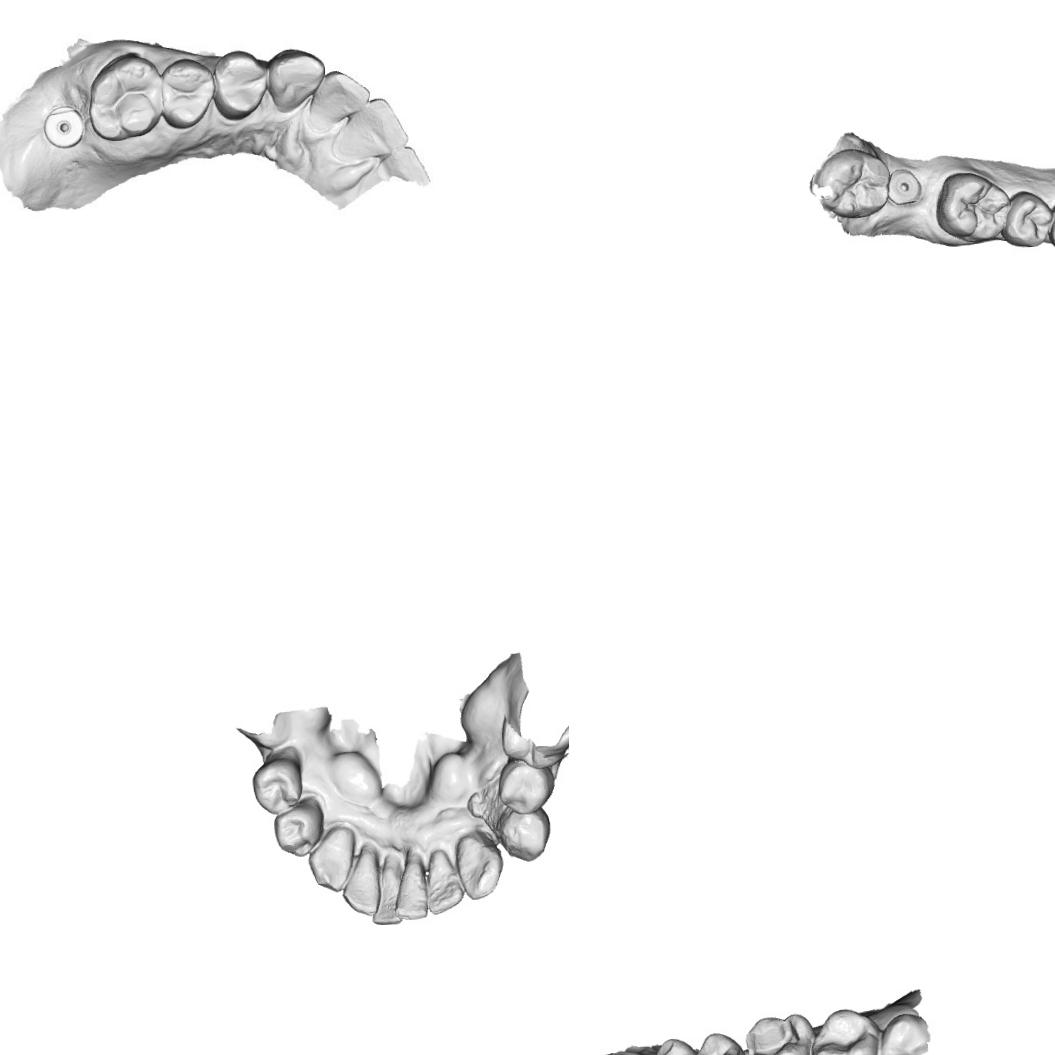canine: (264, 44, 322, 113), (306, 825, 359, 895), (454, 833, 505, 903)
implant: (42, 103, 80, 148), (885, 167, 923, 207)
incisor: (340, 100, 404, 158), (310, 70, 366, 126), (338, 850, 384, 916), (424, 846, 464, 918), (392, 862, 430, 923), (369, 866, 404, 926)
molar: (86, 54, 167, 144), (811, 145, 892, 220), (933, 169, 1013, 244), (809, 1006, 881, 1055), (738, 1012, 814, 1055)
premolar: (212, 50, 270, 123), (158, 57, 214, 131), (494, 758, 556, 818), (495, 807, 559, 863), (270, 796, 326, 858), (249, 755, 305, 816), (998, 189, 1054, 249), (689, 1030, 746, 1055), (640, 1035, 699, 1055)
